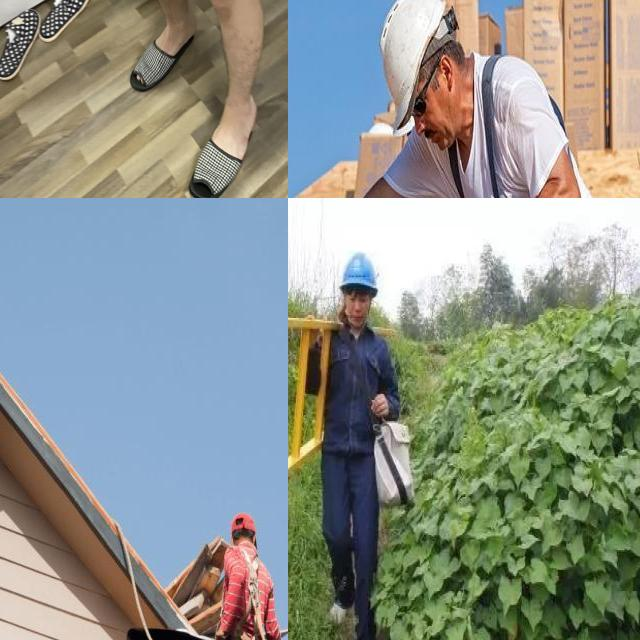Harness: (442, 53, 588, 198), (224, 546, 272, 640)
No_Ear-Protection: (438, 51, 457, 96)
Sandals: (184, 84, 266, 198), (128, 7, 202, 96)
person: (344, 290, 368, 308)
